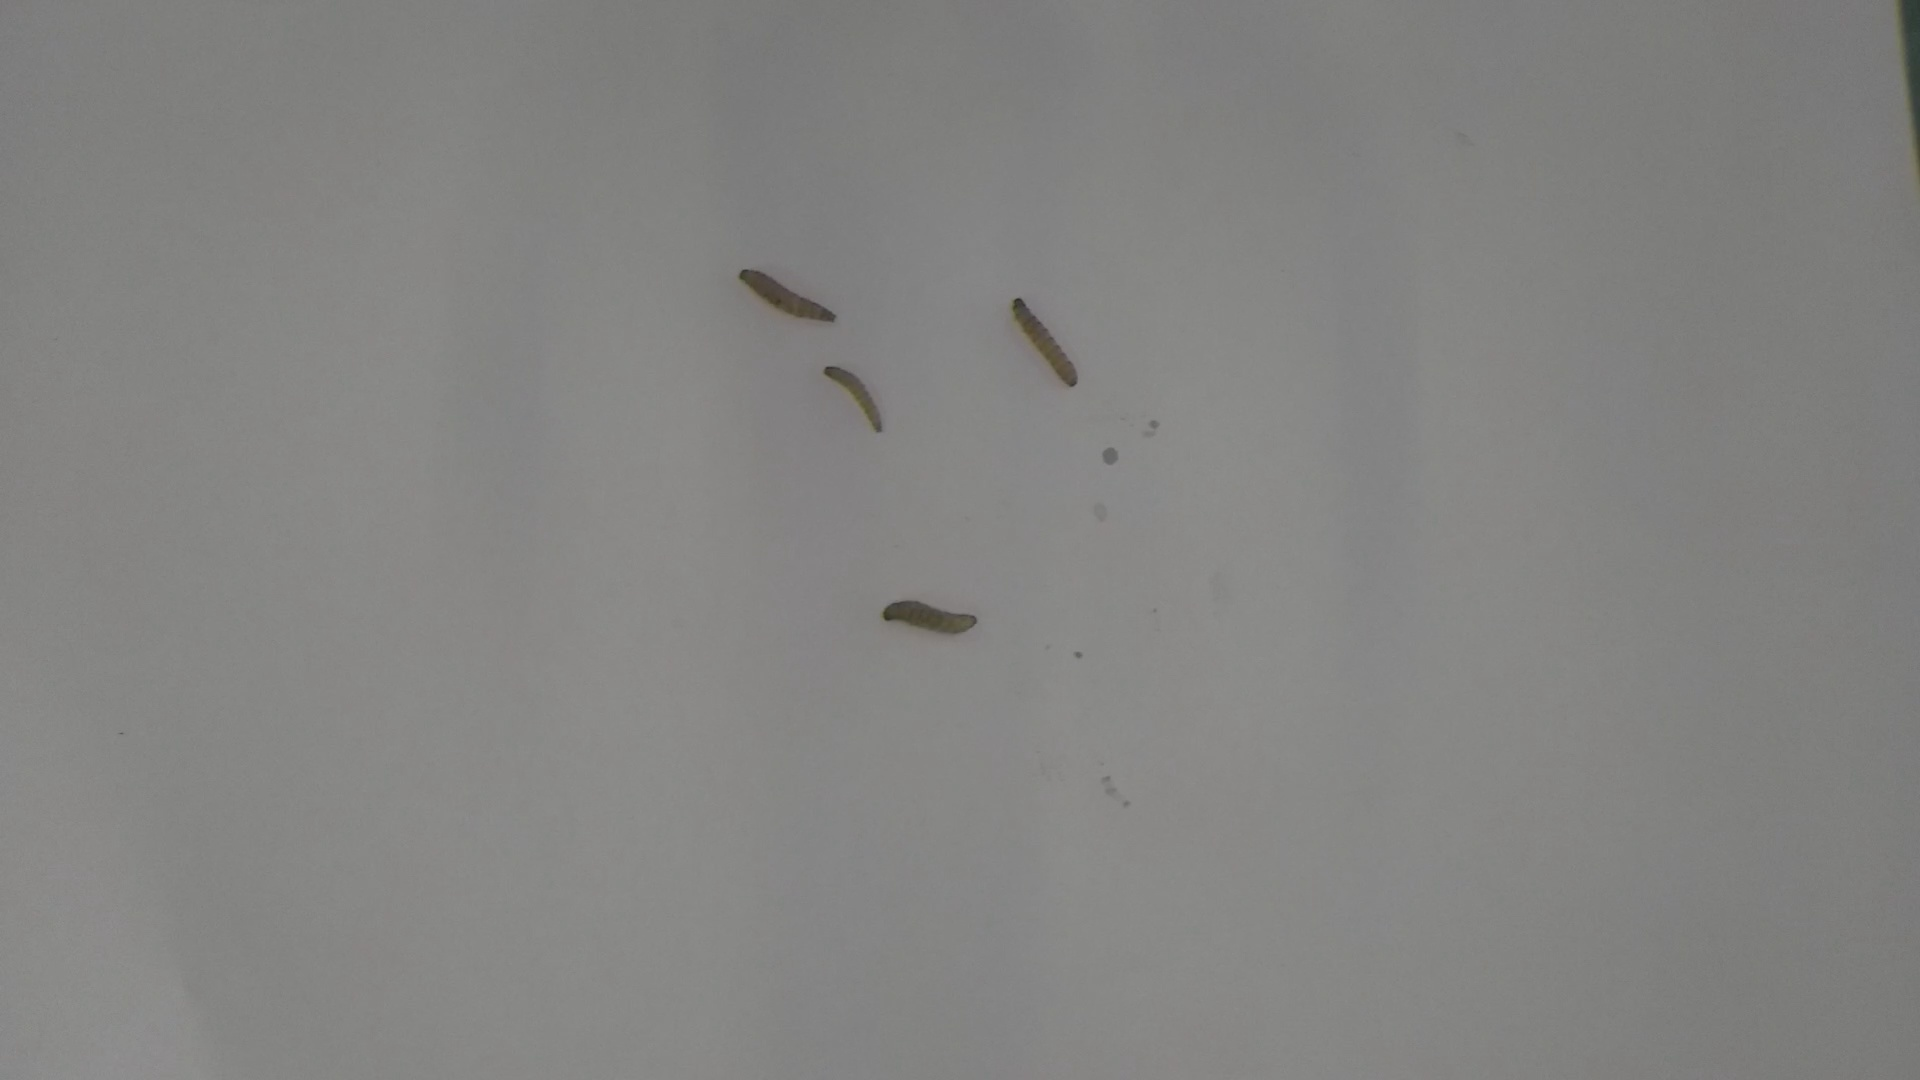efsb: (1004, 289, 1084, 392), (735, 260, 847, 332), (819, 364, 891, 442), (877, 591, 978, 642)
